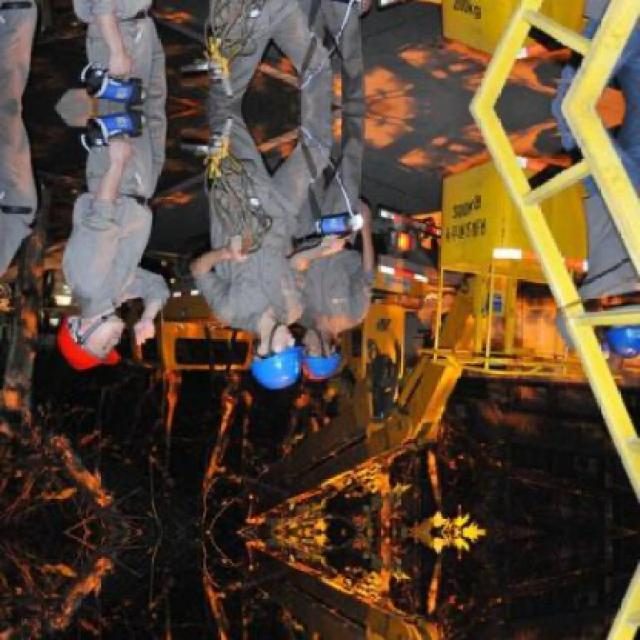con casco: (39, 299, 170, 374), (228, 318, 310, 412), (289, 328, 344, 404)
